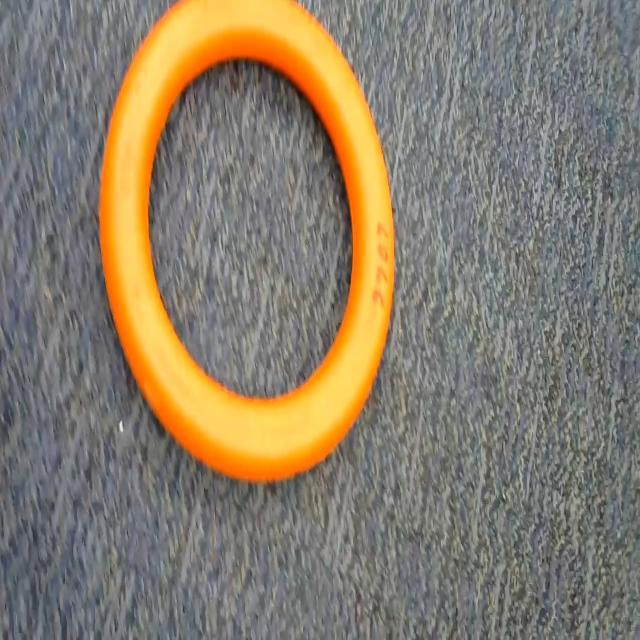note: (97, 0, 391, 492)
